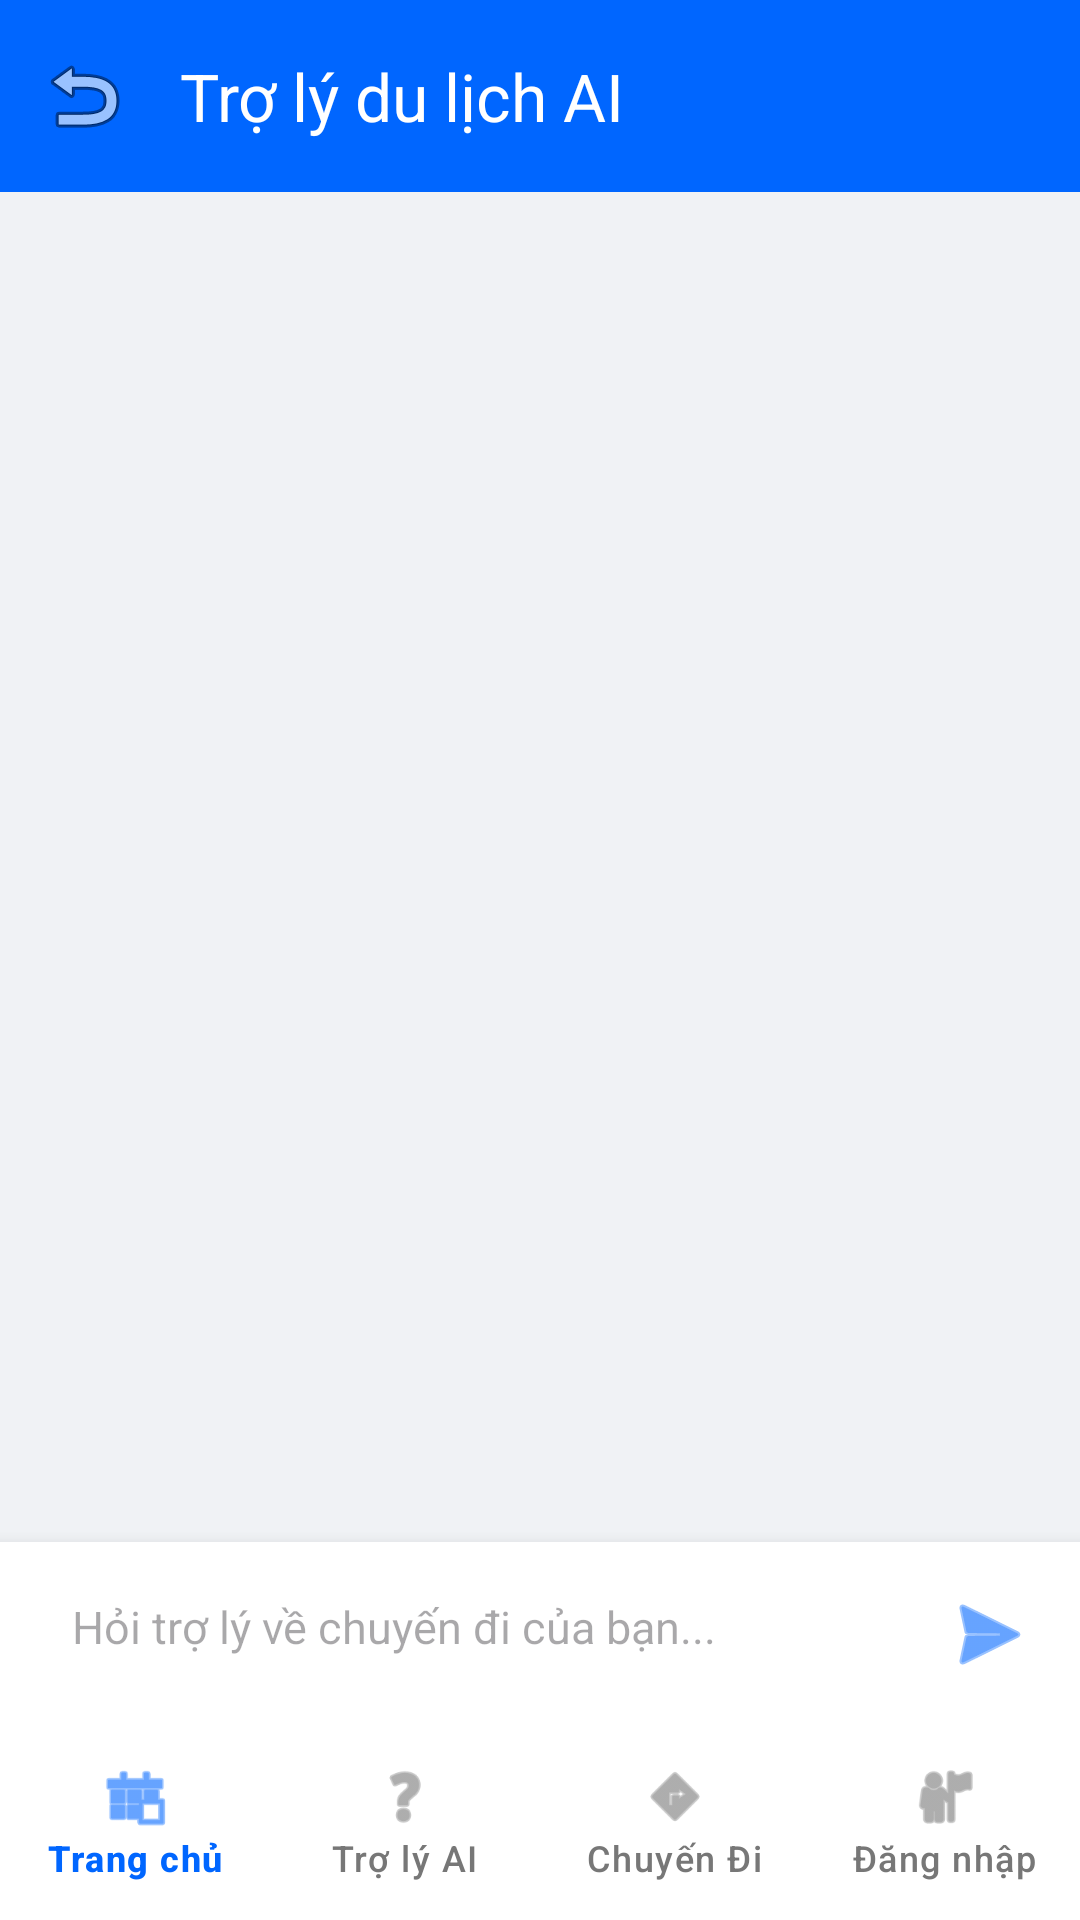

Icons on this 1080 x 1920 Android screen, each with the point to tap as (x,y):
send: (990,1634)
